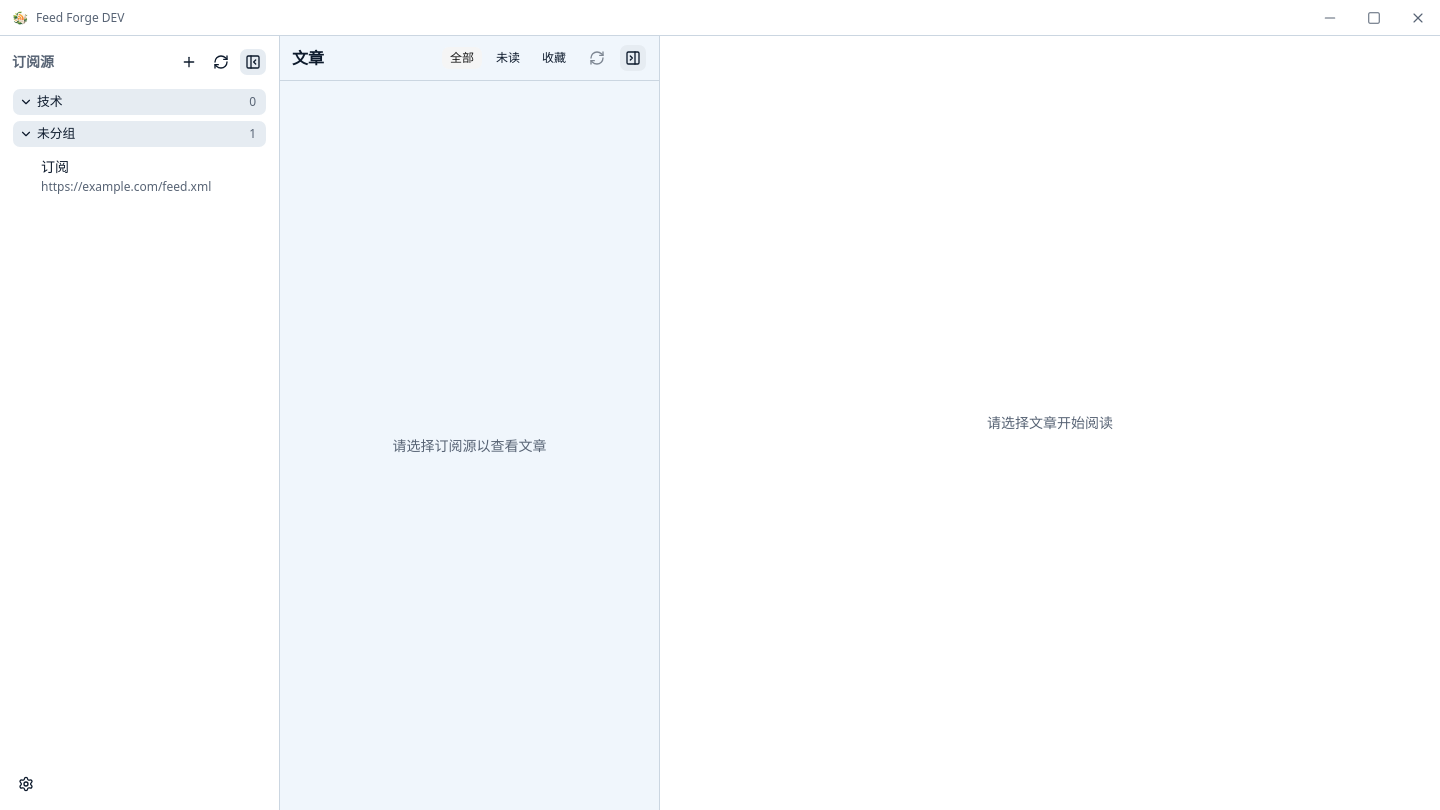
retains the add-feed dialog values after a failed submission
Click the button named "添加订阅源": (189, 62) [175, 48, 203, 76]
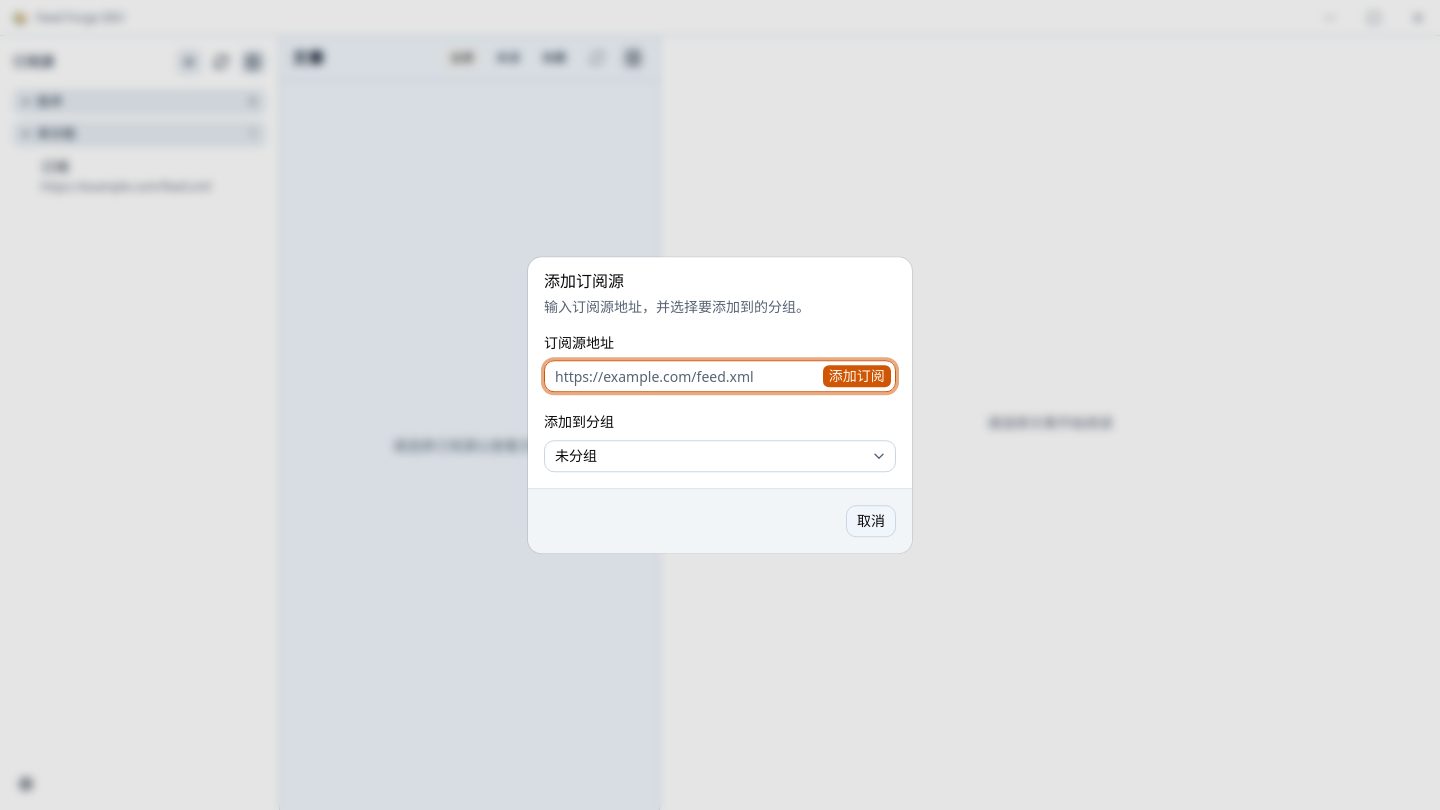
Click the dropdown named "添加到分组": (576, 455) [544, 440, 896, 472]
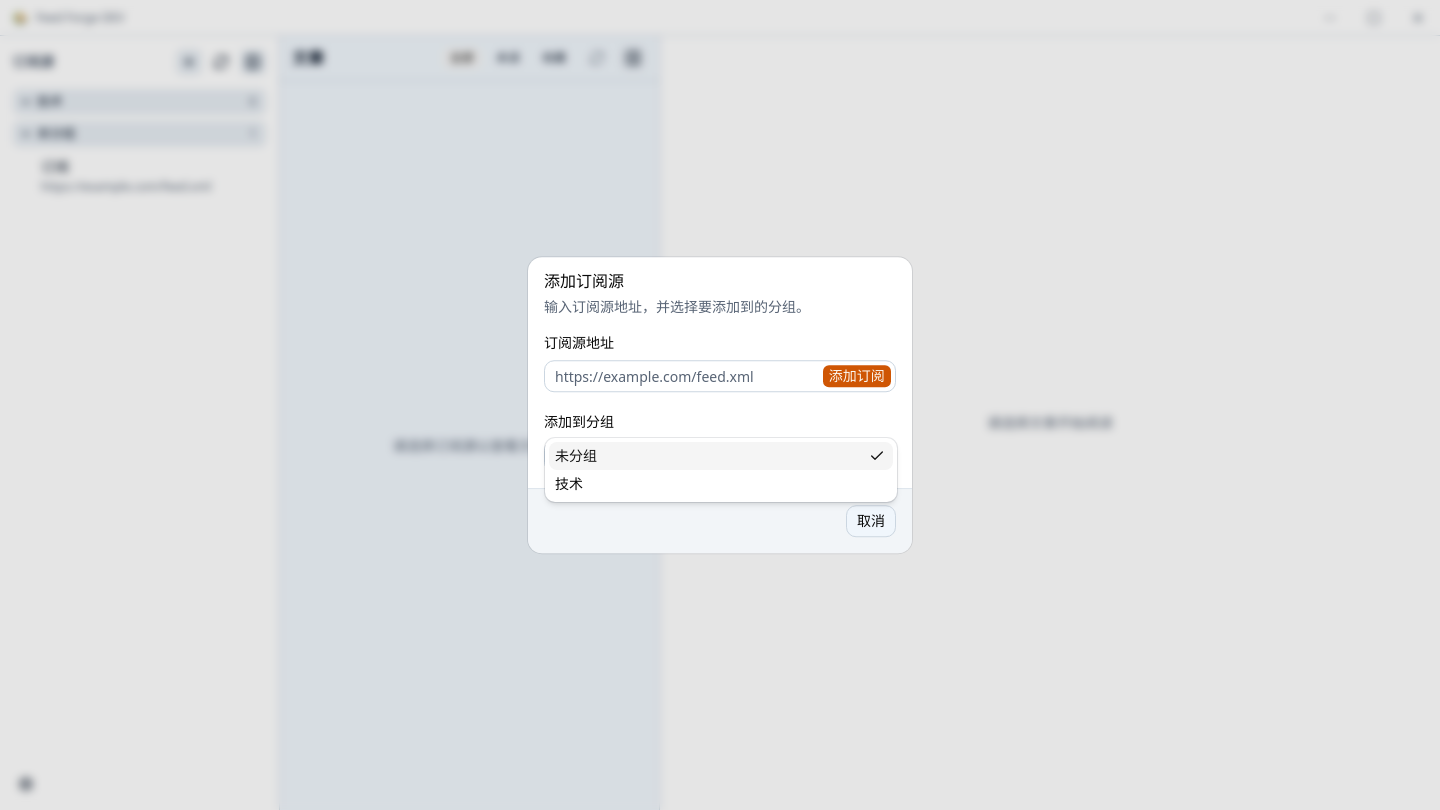
Click the option "技术": (569, 483) [555, 474, 583, 493]
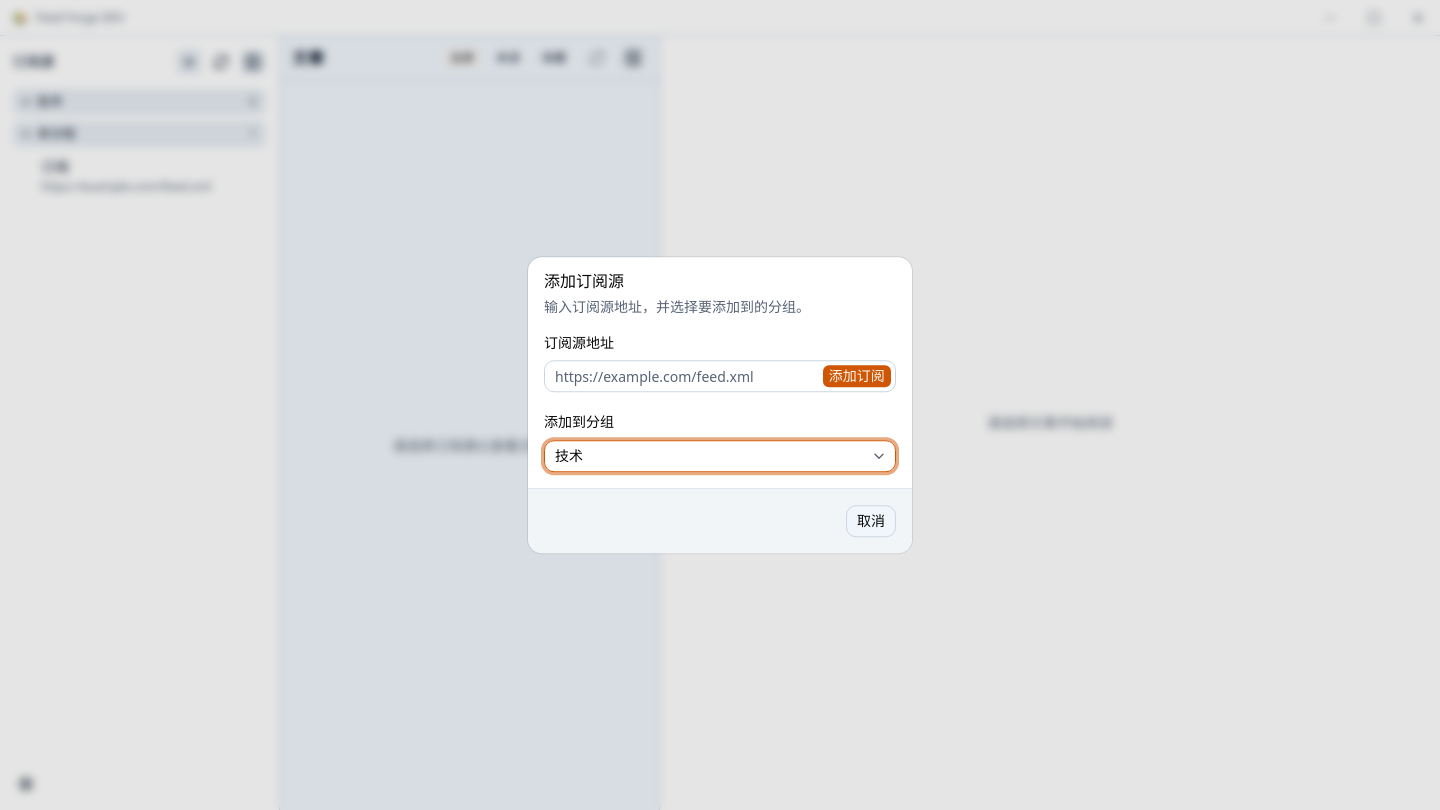
In the field labelled "订阅源地址": (683, 376) [545, 360, 822, 392], type "https://example.com/duplicate.xml"
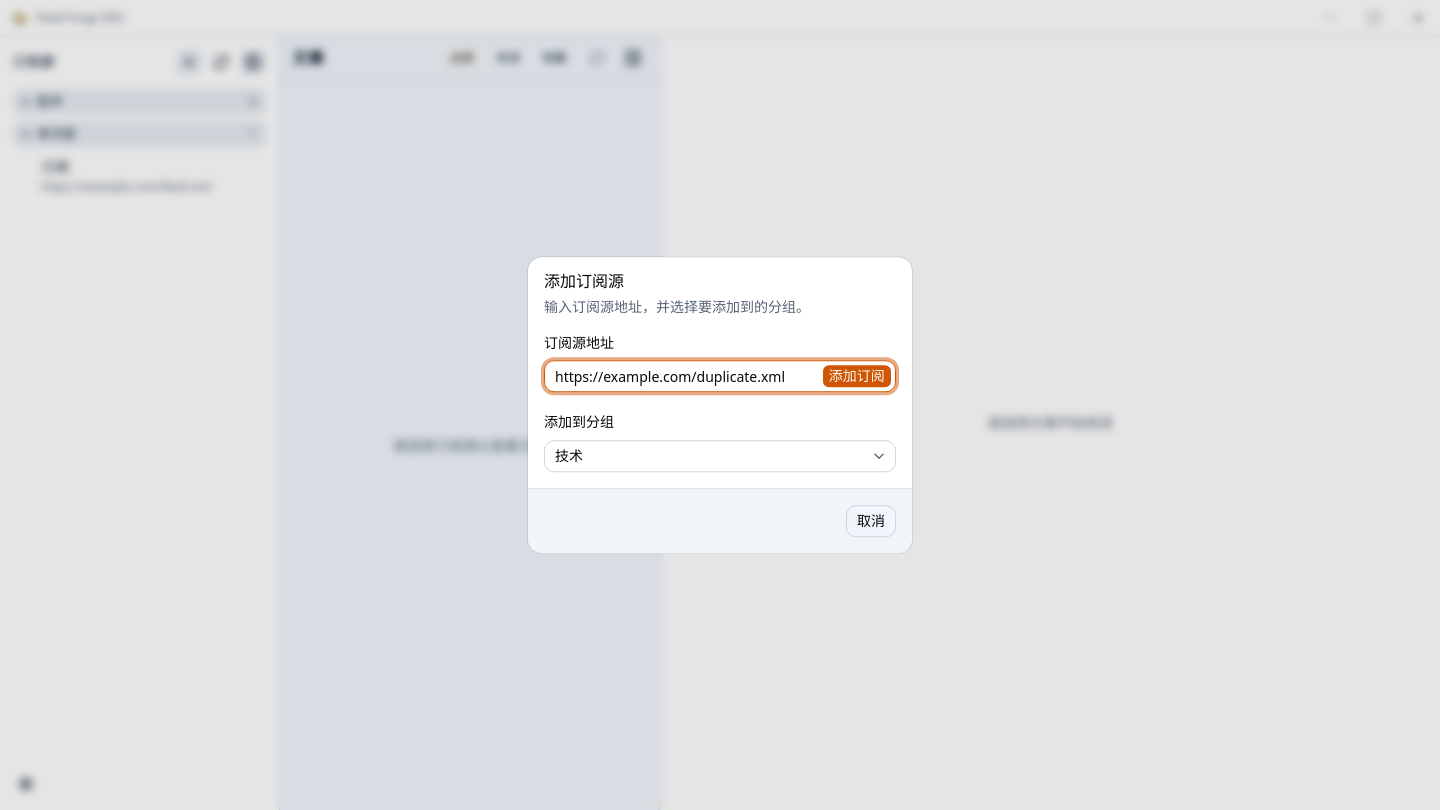
Click the button "添加订阅": (857, 376) [822, 364, 892, 388]
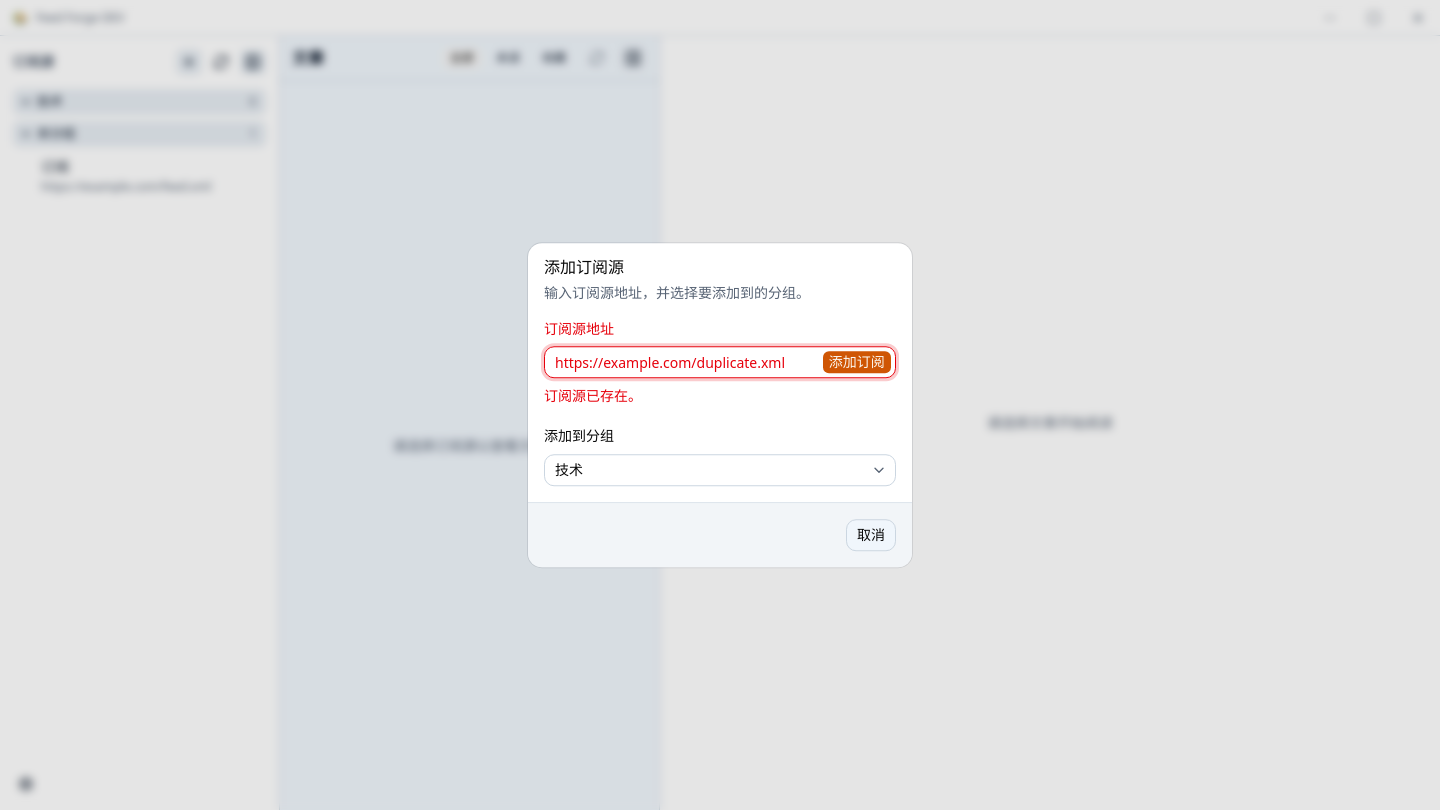
Expected: the dialog "添加订阅源" is shown, [528, 243, 912, 567]
Expected: the dropdown named "添加到分组" shows "技术", [544, 454, 896, 486]
Expected: the message reads "订阅源已存在。", [544, 386, 642, 406]
